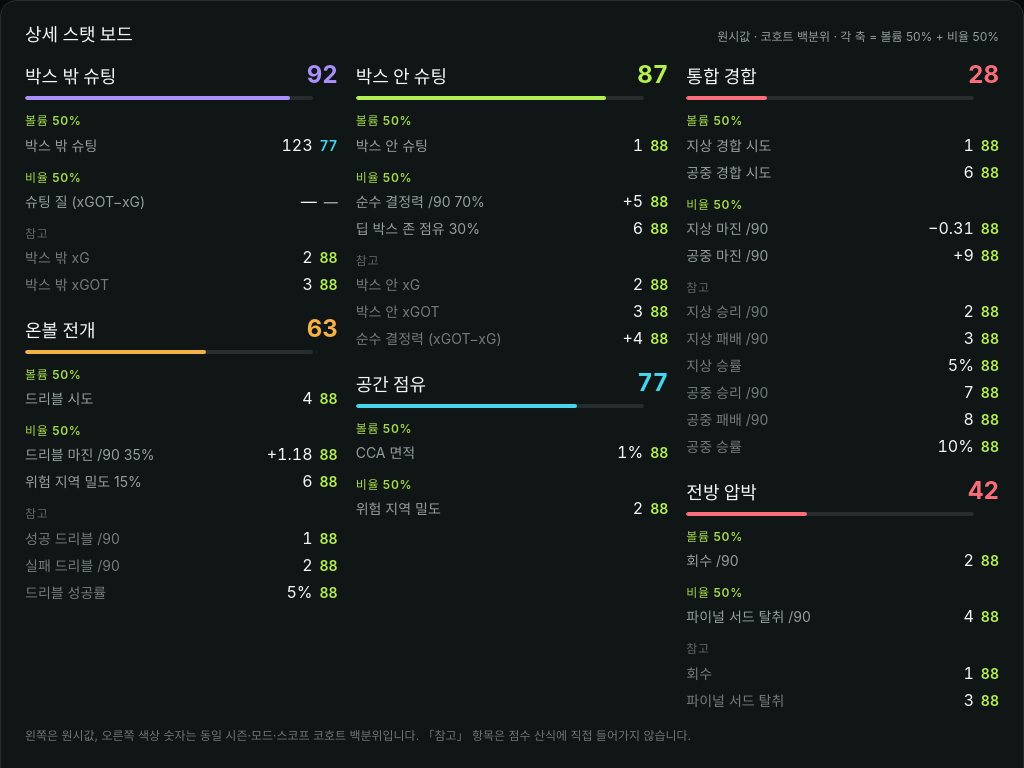
Test: approved Figma 7154 detailed stats board › retains the existing provenance tooltip without changing the visual footprint
Focus the button named "박스 밖 슈팅 123 77 상세 정보" at (310, 145), box [281,133,338,157]
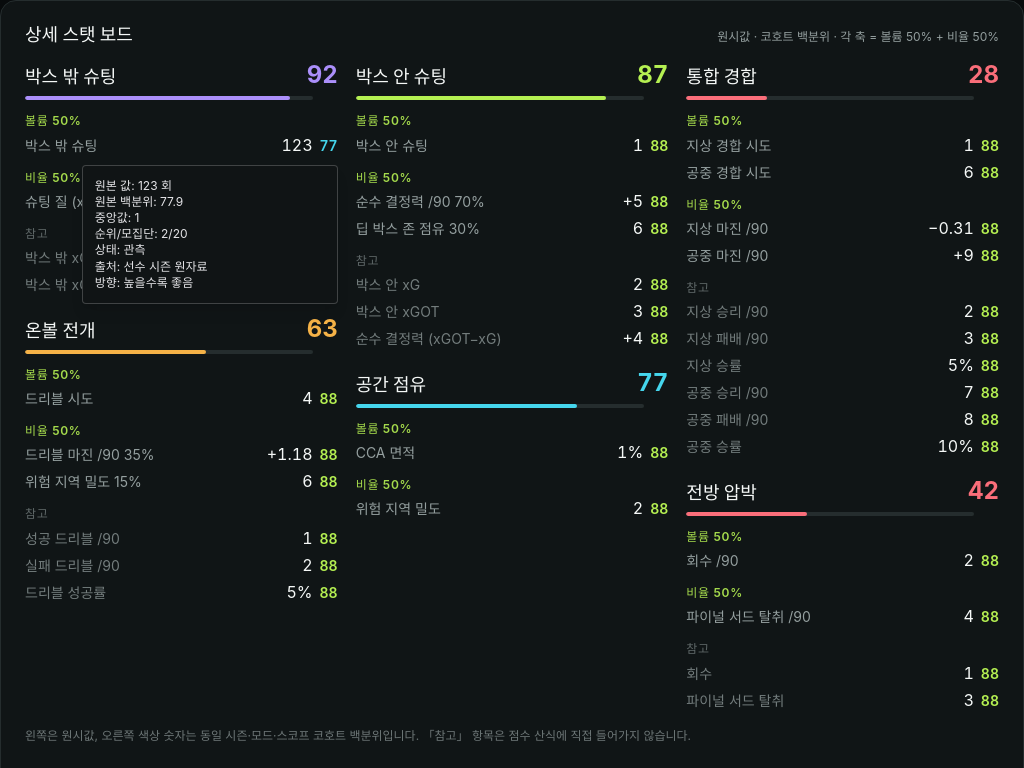
Expected: the tooltip shows "원본 값: 123 회", [82,165,338,304]
Expected: the tooltip shows "원본 백분위: 77.9", [82,165,338,304]
Expected: the tooltip shows "순위/모집단: 2/20", [82,165,338,304]
Leave the button named "박스 밖 슈팅 123 77 상세 정보", box [281,133,338,157]
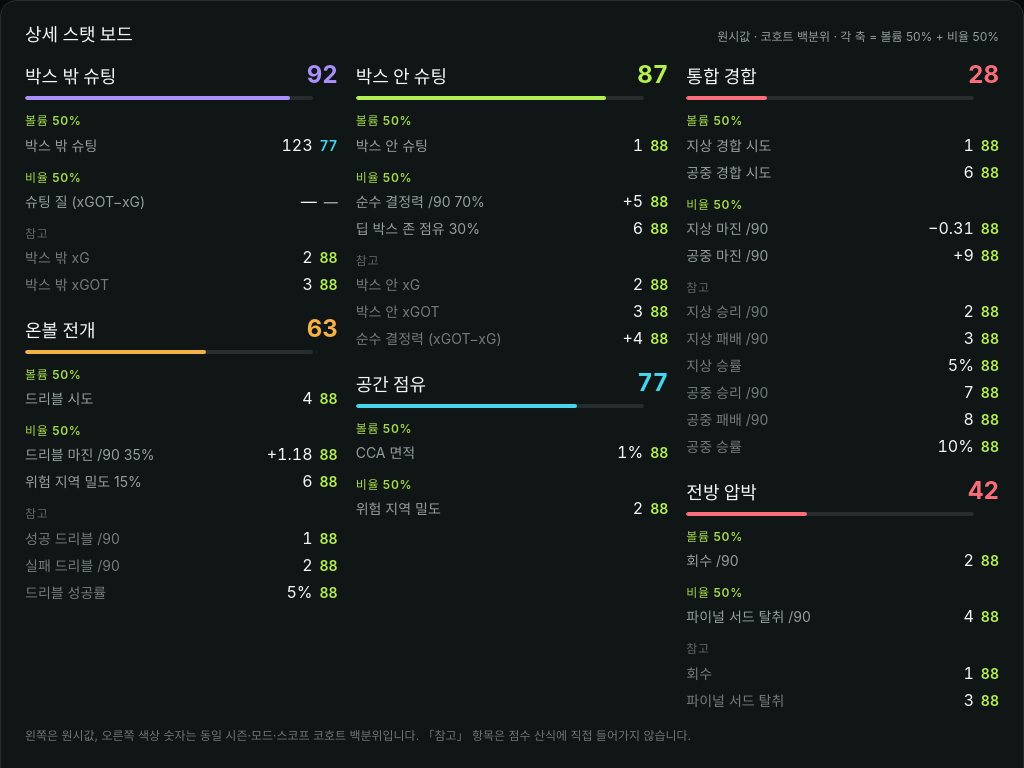
Expected: the tooltip "원본 값: 123 회 원본 백분위: 77.9 중앙값: 1 순위/모집단: 2/20 상태: 관측 출처: 선수 시즌 원자료 방향: 높을수록 좋음" is gone
